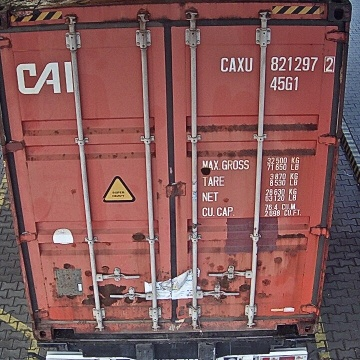serial_id: (221, 56, 334, 71)
